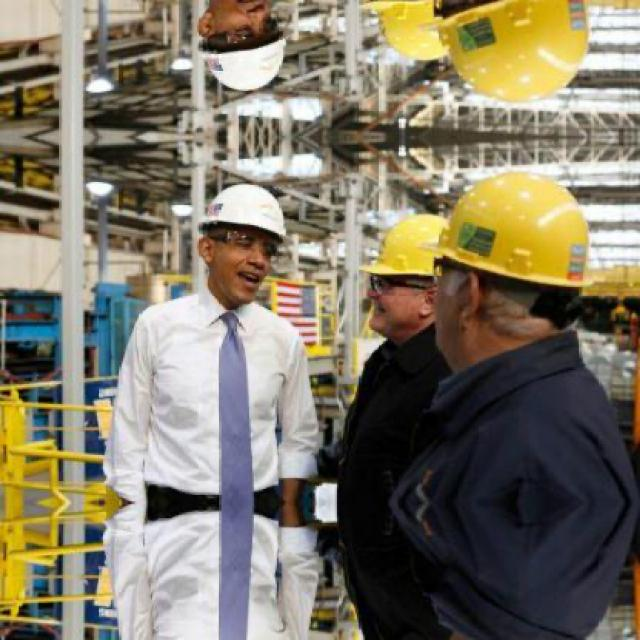helmet: (425, 168, 589, 366), (424, 0, 590, 108), (360, 207, 457, 346), (192, 182, 296, 311), (192, 0, 297, 94), (360, 0, 459, 69)
